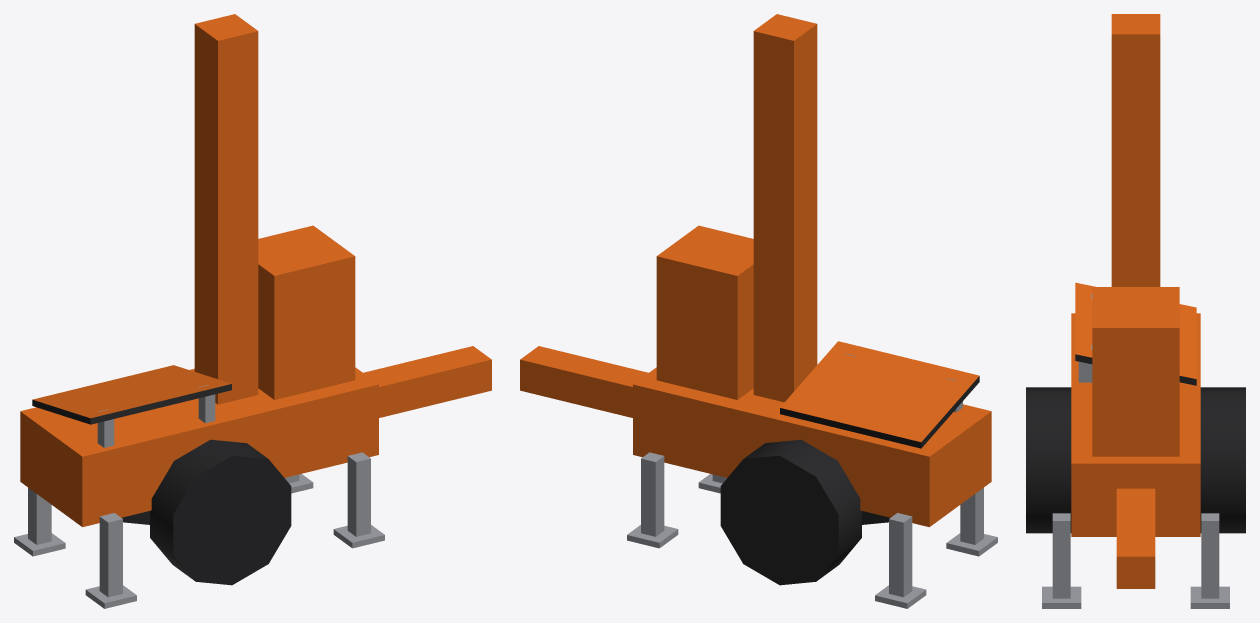
Rendered from workzone_signal_trailer_ped.obj.
The picture shows the model from 3 angles, left to right: view 1: azimuth 30°, elevation 25°; view 2: azimuth 150°, elevation 25°; view 3: azimuth 270°, elevation 25°; orthographic projection. The views are drawn at different scales.
Parts seen in each view (by area): view 1: workzone_signal_trailer_ped; view 2: workzone_signal_trailer_ped; view 3: workzone_signal_trailer_ped.
Part boxes in pixels (x1,y1,x2,y2): workzone_signal_trailer_ped: (14,14,491,608); workzone_signal_trailer_ped: (520,14,997,608); workzone_signal_trailer_ped: (1026,14,1245,608).
Size of the model in its own units: 4 by 4.5 by 1.7.
